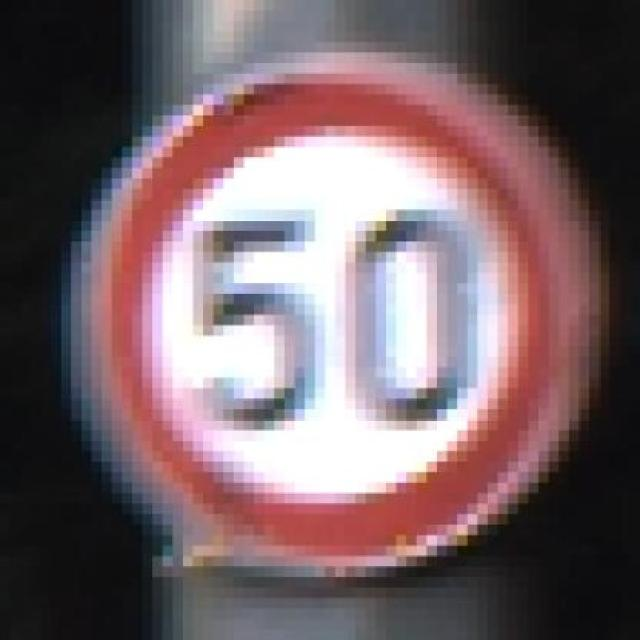forb_speed_over_50: (91, 73, 571, 562)
